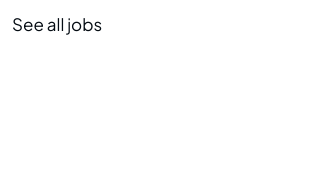
Test: LandingGatedButton › runs validating, then success, then redirects
Later steps or results of the test are not shown.
Step 1. Click the button → click(57, 25), box [12,12,102,38]
Wait 1550 ms
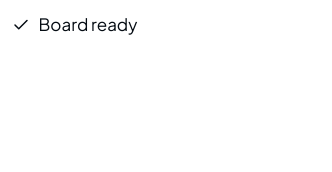
Result: the button reads "Board ready" at [12,12,137,40]
